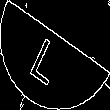L_NE: (34, 25, 76, 85)
